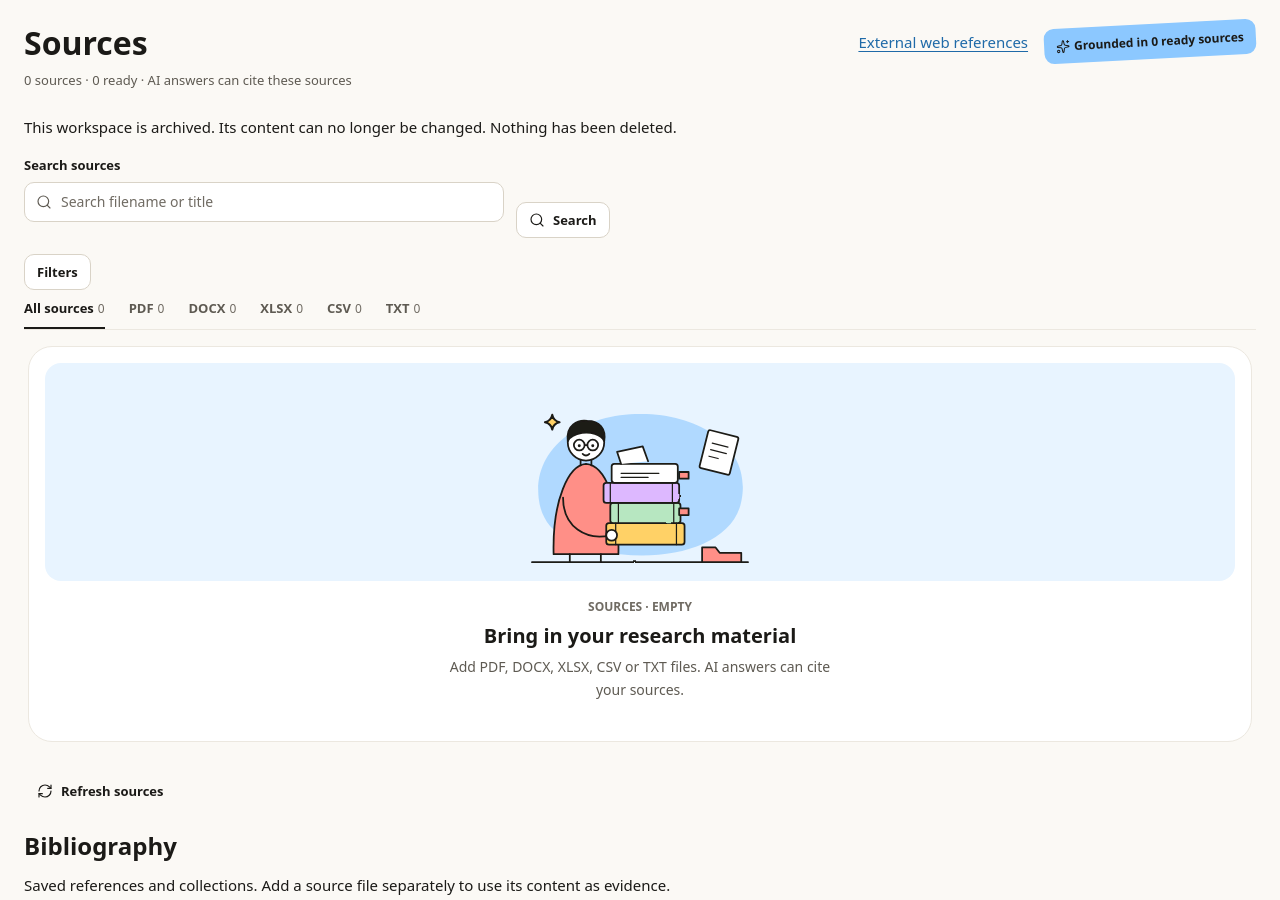
Test: shows archive information and refreshes an empty library
The width and height of the screenshot is (1280, 900).
Check: the heading "Bring in your research material" is shown, box left=484, top=622, right=796, bottom=650
Check: the message shows "archived", box left=24, top=117, right=677, bottom=137
What coordinates should you click on to do the following:
click the button "Refresh sources"
I would click on:
 (100, 791)
Its box is left=24, top=774, right=176, bottom=808.
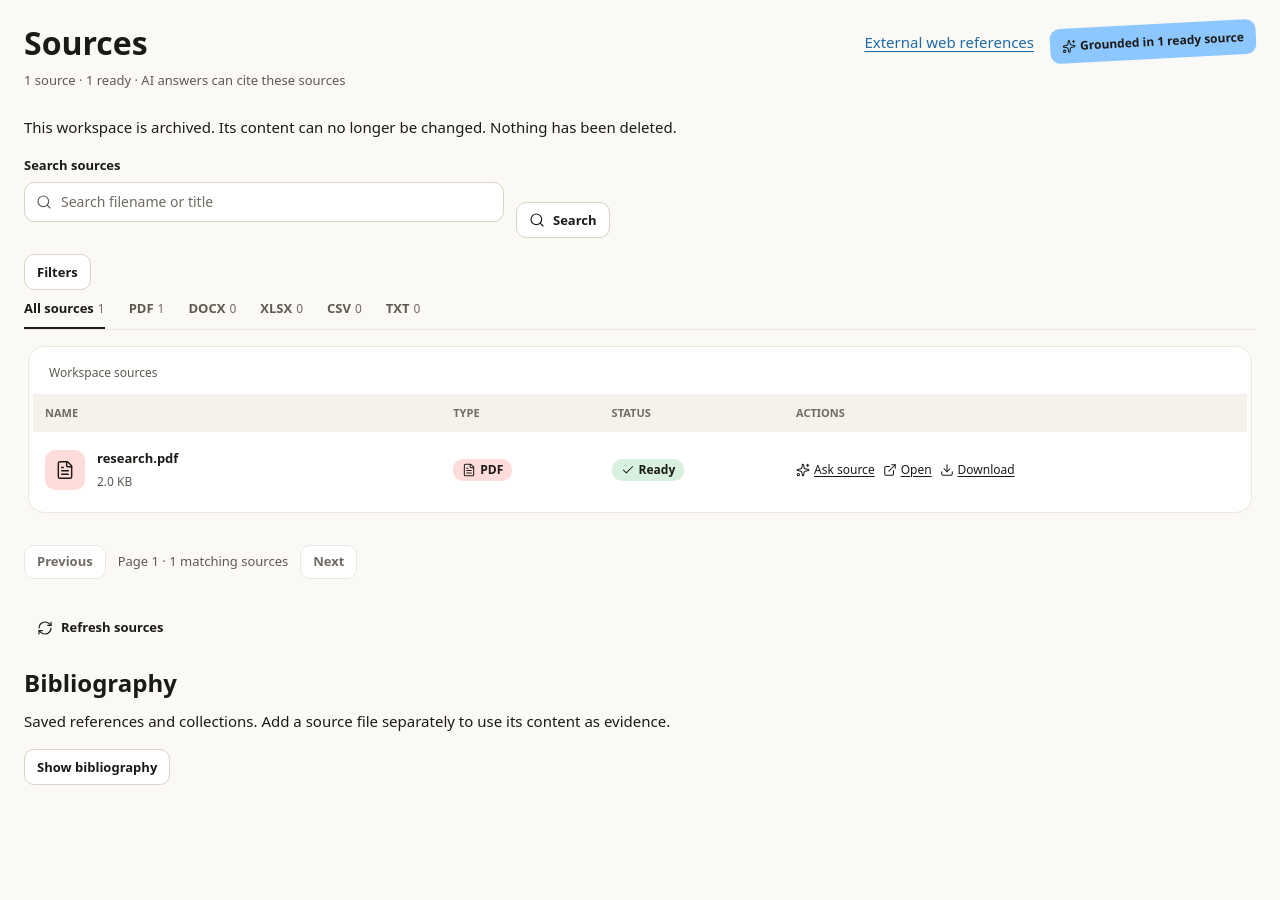
Check: the link "research.pdf" is shown, box left=97, top=449, right=178, bottom=467
